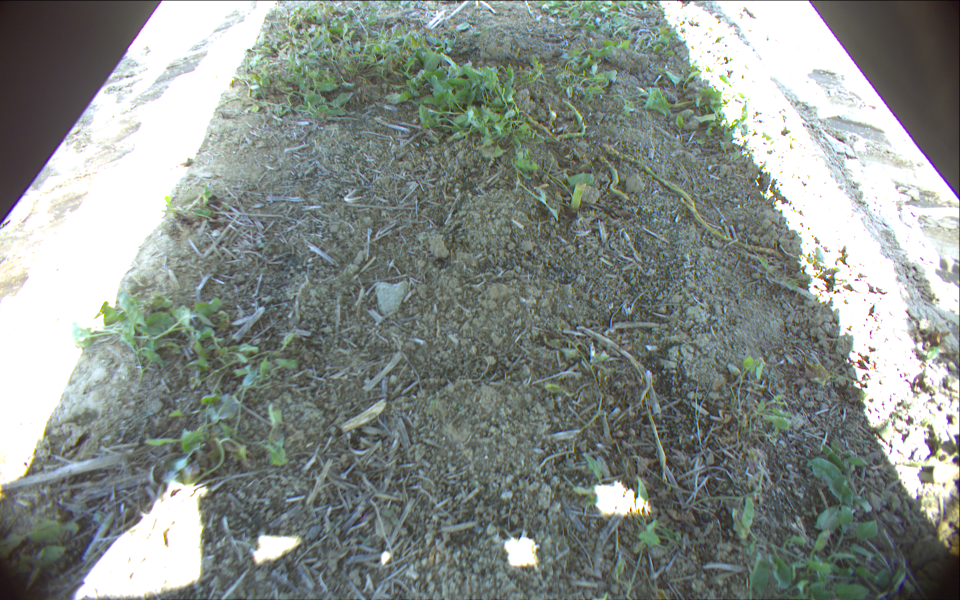aspa: (605, 143, 779, 256), (597, 154, 627, 199), (557, 100, 587, 142), (571, 181, 587, 212)
